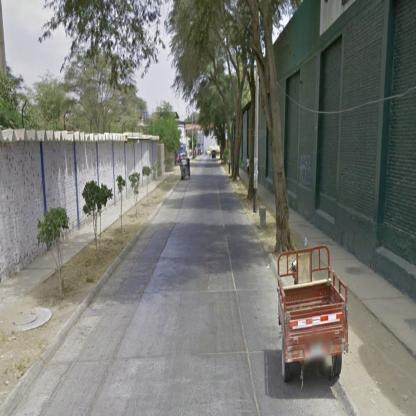Peaton: (247, 156, 251, 179)
Pista: (108, 184, 276, 282)
Vehiculo: (278, 246, 350, 383), (181, 159, 191, 181), (213, 152, 217, 161)
